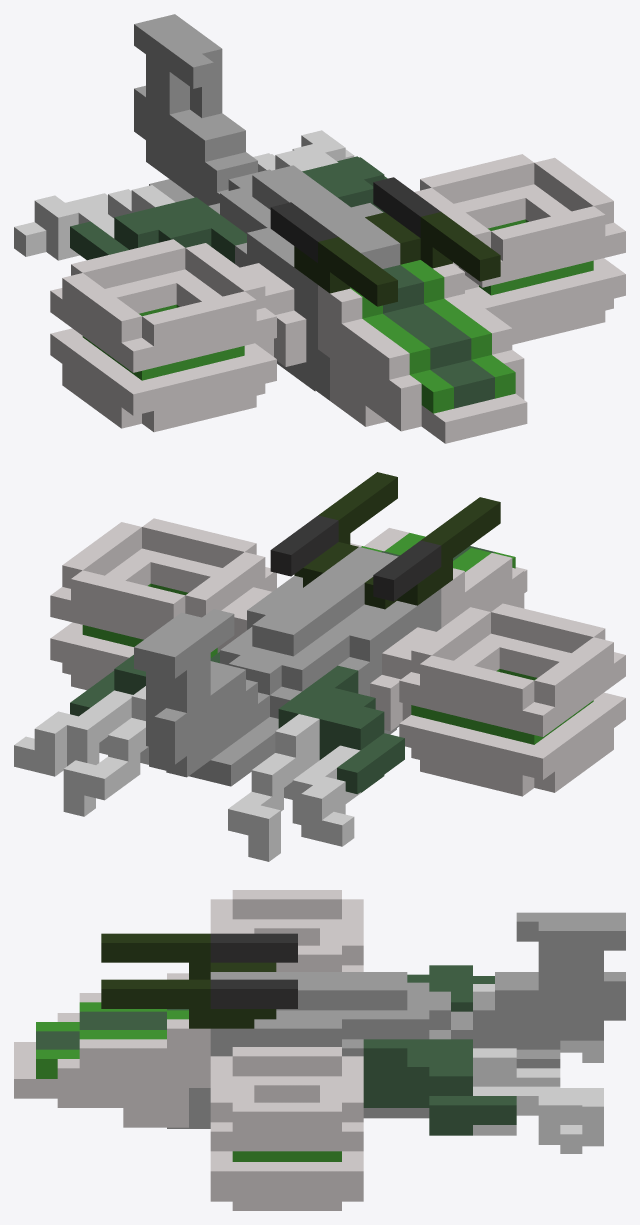
Rendered from infinity_airplane.obj.
3 views of the same model, one above another, from view 1: azimuth 30°, elevation 25°; view 2: azimuth 150°, elevation 25°; view 3: azimuth 270°, elevation 25° (orthographic). The views are drawn at different scales.
Bounding box in the file's own units: 2.4 × 1 × 2.8.
